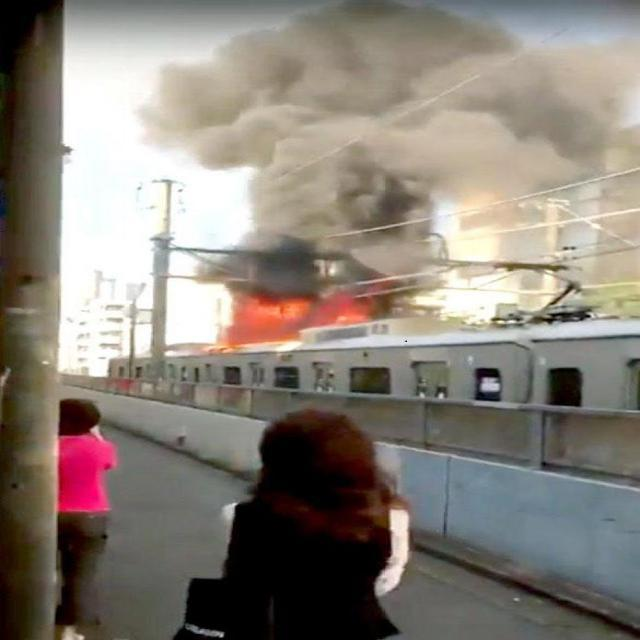Fire: (210, 285, 394, 351)
